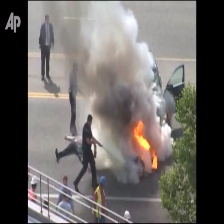fire_h: (132, 120, 150, 150)
fire_l: (151, 150, 157, 169)
